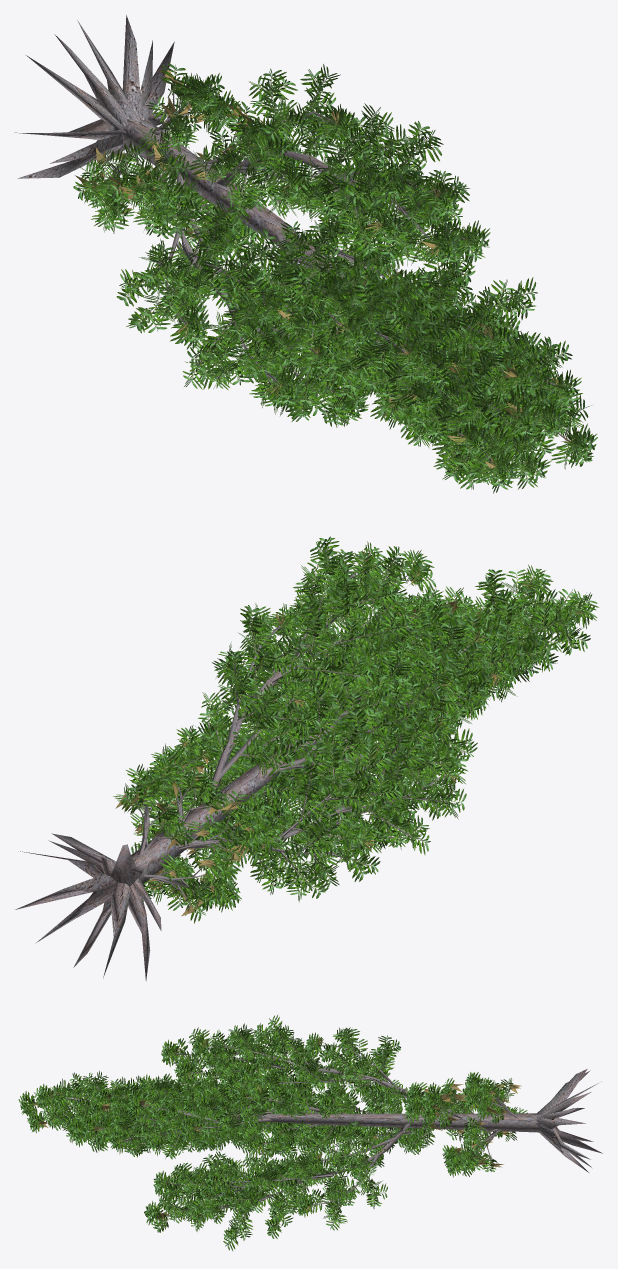
3 renders of one model, top to bottom at view 1: azimuth 30°, elevation 25°; view 2: azimuth 150°, elevation 25°; view 3: azimuth 270°, elevation 25°, orthographic. The views are drawn at different scales.
Visible parts, largest first — view 1: OC59_5; view 2: OC59_5; view 3: OC59_5.
Boxes of the visible parts, bbox=[...] form: OC59_5: bbox=[14, 15, 597, 493]; OC59_5: bbox=[15, 536, 598, 981]; OC59_5: bbox=[18, 1015, 602, 1250].
Bounding box in the file's own units: 4.32 × 4.61 × 11.53.
6 materials, 6 textured.
